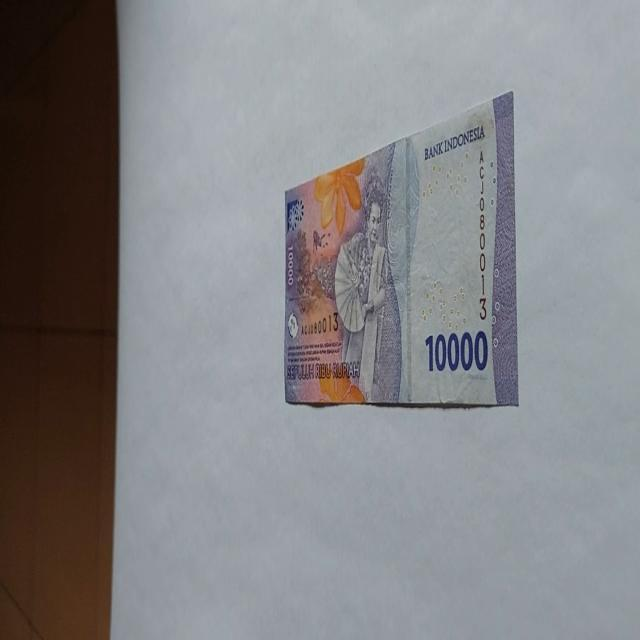sepuluh ribu rupiah: (282, 89, 518, 409), (422, 122, 486, 161)
